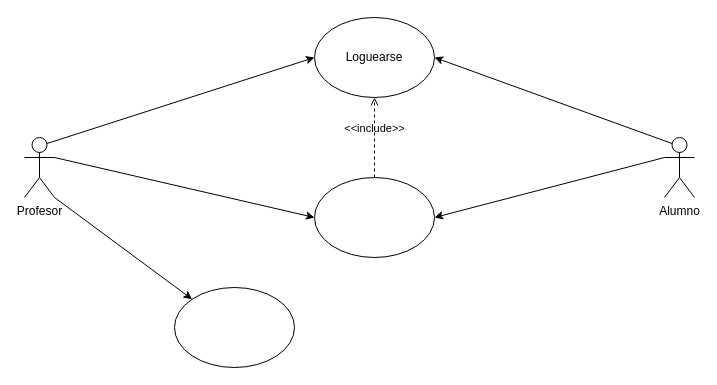
Image size: 717x385. Some labels were removed from this diagram. The shapes that lost their labels are listed below. From the top down, each one's box as (x1, y1, x2, y2) in pixels, then its label:
(314, 176, 434, 258): Hacer formulario
(174, 286, 294, 368): Diseñar Form
